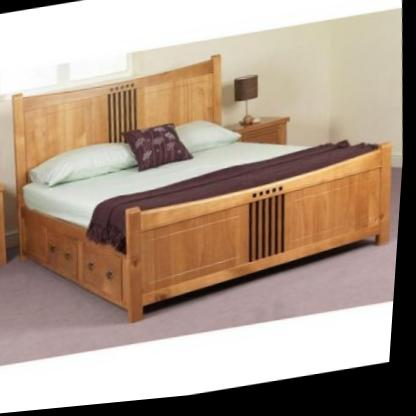Bed: (8, 31, 413, 325)
Lamp: (232, 79, 265, 131)
Nightstand: (236, 117, 298, 179), (0, 178, 15, 269)
